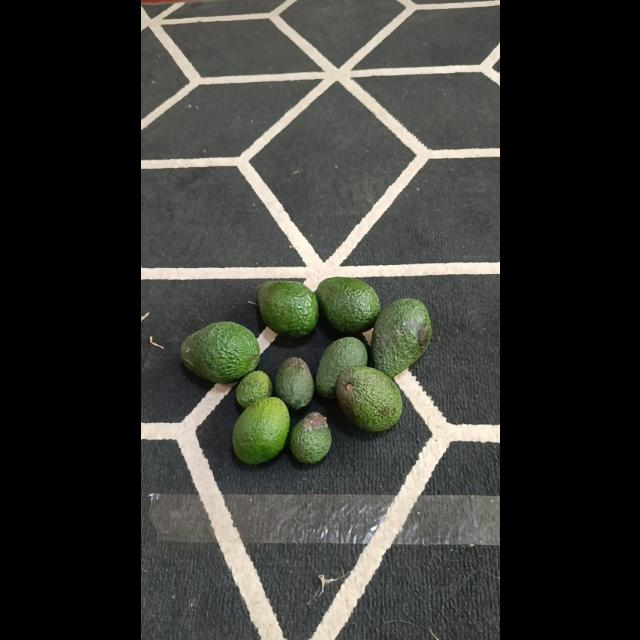Primera: (370, 299, 432, 377), (179, 322, 259, 382), (335, 366, 401, 430), (314, 277, 380, 333), (256, 280, 318, 336)
Segunda: (231, 396, 289, 464), (314, 338, 368, 398)
Tercera: (288, 411, 330, 463), (274, 356, 314, 409), (234, 370, 272, 410)
